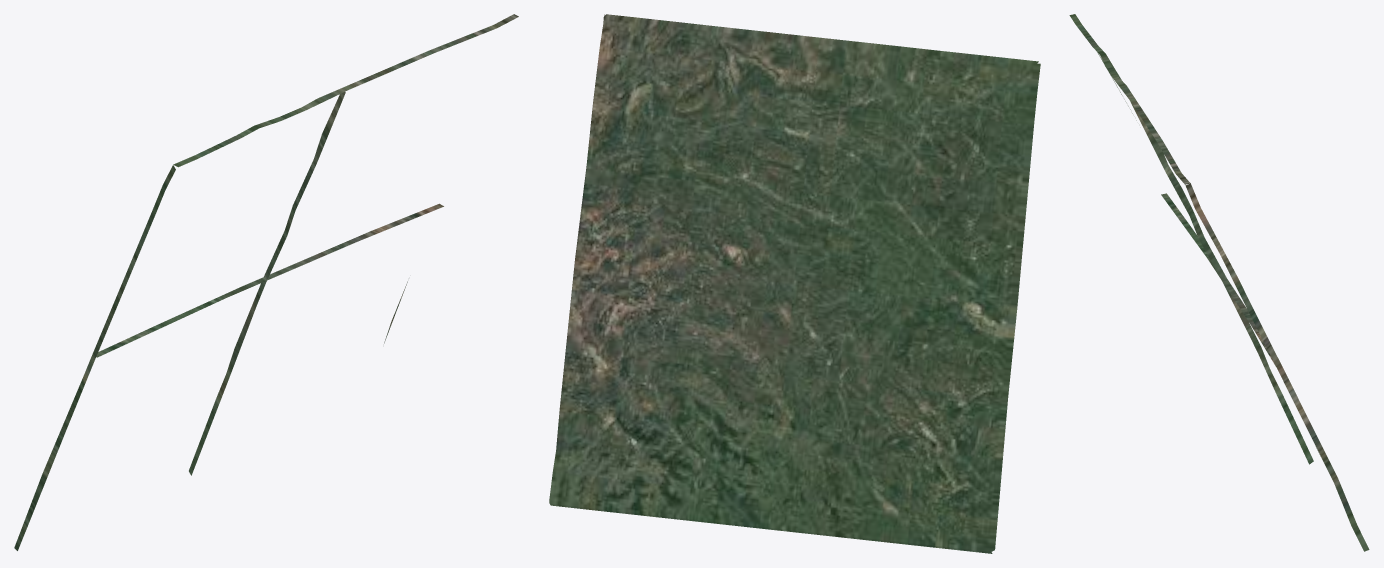
3 views of the same model, side by side, from view 1: azimuth 30°, elevation 25°; view 2: azimuth 150°, elevation 25°; view 3: azimuth 270°, elevation 25° (orthographic). The views are drawn at different scales.
Bounding box in the file's own units: 312336 × 289805 × 203040.
Materials: 1 (1 with a texture image).
